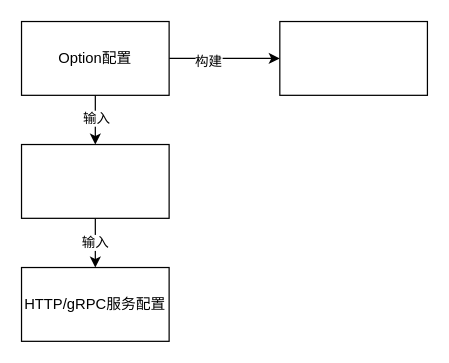
Image size: 449x363. Some labels were removed from this diagram. Each missing label, with the centre of its shape:
命令行参数: [353,57]
应用配置: [94,180]
